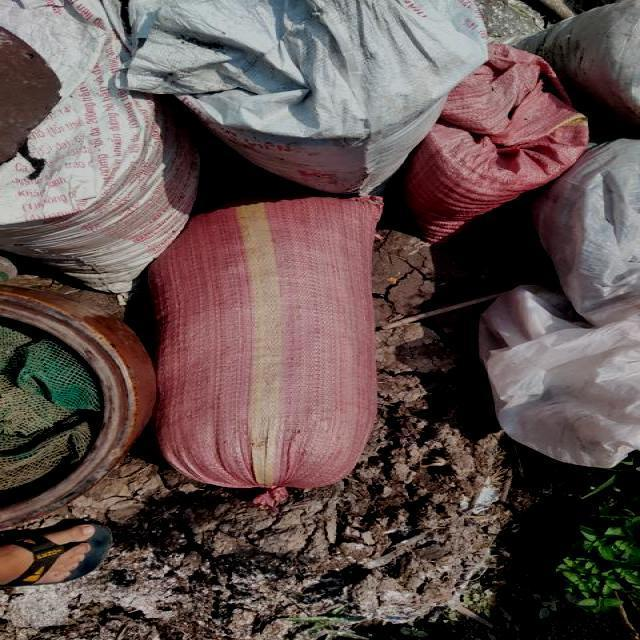gunny_bag: (125, 0, 488, 194), (151, 197, 383, 500), (1, 0, 200, 292), (400, 44, 589, 244)
